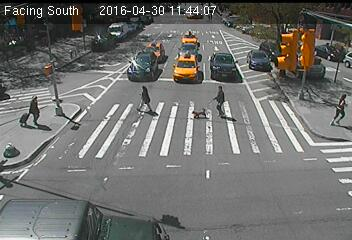neg: (51, 144, 94, 200), (59, 35, 86, 71), (135, 155, 154, 181), (34, 51, 50, 73)
